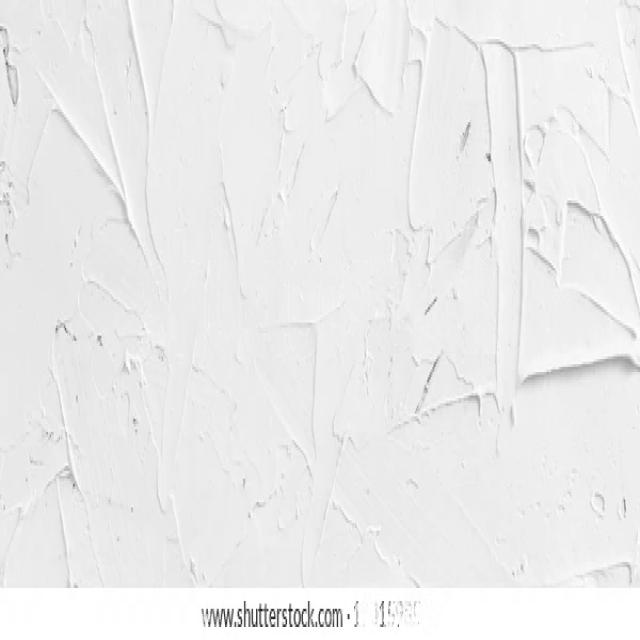rough and patchy surface: (3, 2, 636, 585)
